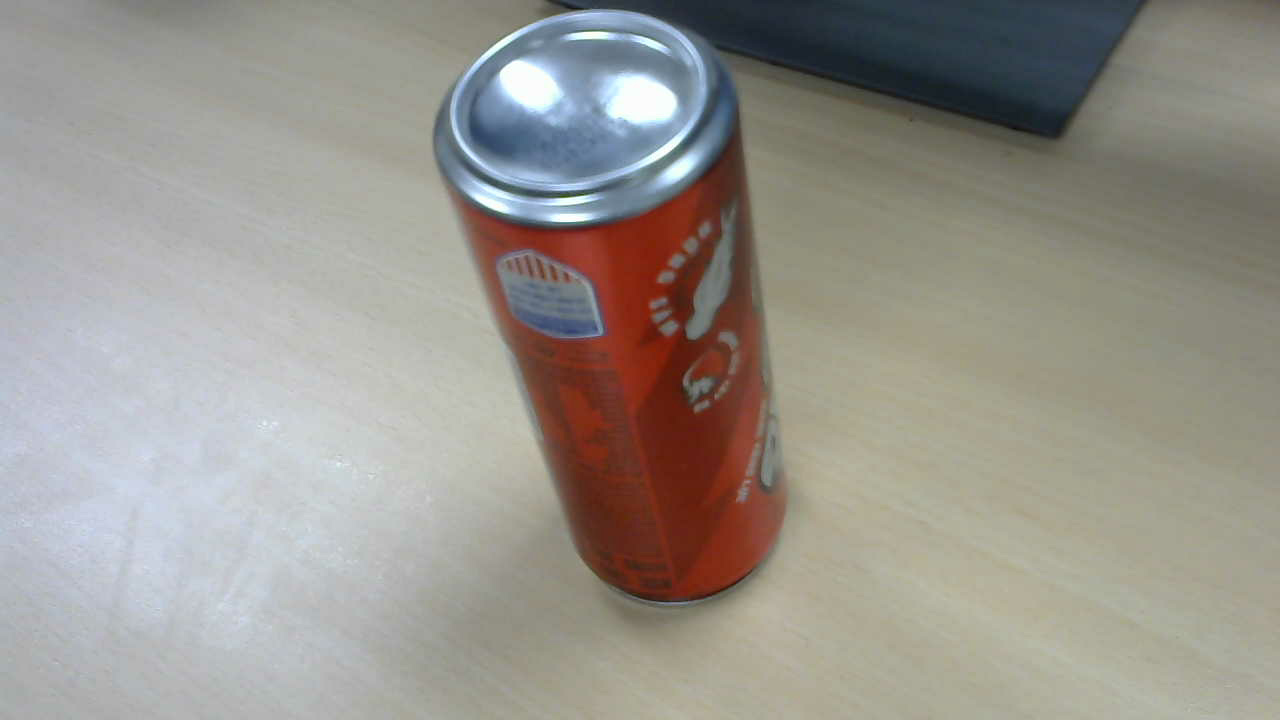Sting: (448, 7, 795, 615)
